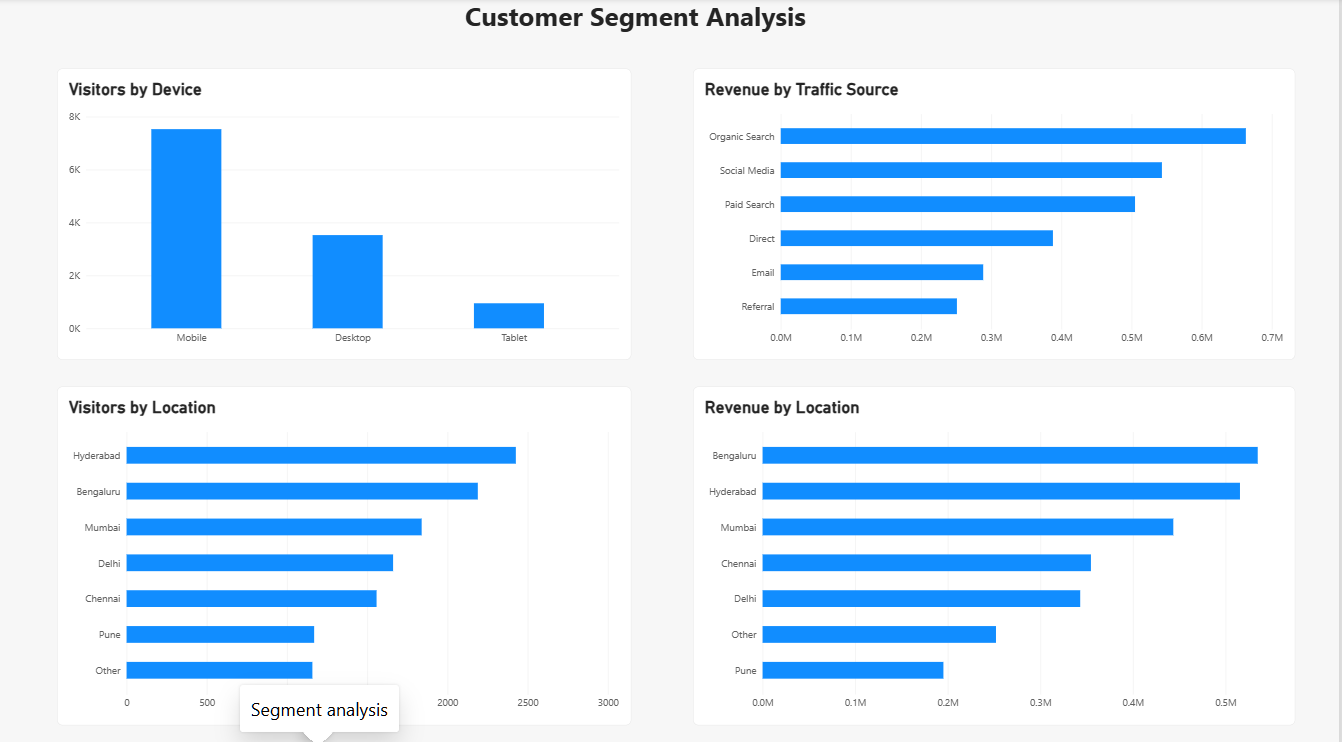

The page's visual inventory and layout, read from the dashboard file:
{"tool":"powerbi","page":{"name":"Segment analysis","canvas":[1920,1080],"ordinal":1},"visuals":[{"type":"textbox","box":[665.7,0,651.4,100.2],"z":0},{"type":"clusteredColumnChart","title":"Visitors by Device","fields":{"Category":["user_funnel_raw_data.device"],"Y":["Sum(user_funnel_raw_data.visited)"]},"box":[82.5,100,822.5,417.5],"z":1000},{"type":"clusteredBarChart","title":"Revenue by Traffic Source ","fields":{"Category":["user_funnel_raw_data.traffic_source"],"Y":["Sum(user_funnel_raw_data.order_value)"]},"box":[992.5,100,862.5,417.5],"z":2000},{"type":"clusteredBarChart","title":"Visitors by Location","fields":{"Category":["user_funnel_raw_data.location"],"Y":["Sum(user_funnel_raw_data.visited)"]},"box":[82.5,557.5,822.5,485],"z":3000},{"type":"clusteredBarChart","title":"Revenue by Location","fields":{"Category":["user_funnel_raw_data.location"],"Y":["Sum(user_funnel_raw_data.order_value)"]},"box":[992.5,557.5,862.5,485],"z":4000}]}

Visuals, with their boxes in screenshot pixels (x1, y1, x2, y2), scaled from the page's 1920x1080 canvas onto the 1342x742 screenshot:
textbox: Rect(465, 0, 921, 69)
"Visitors by Device" clusteredColumnChart: Rect(58, 69, 633, 356)
"Revenue by Traffic Source " clusteredBarChart: Rect(694, 69, 1297, 356)
"Visitors by Location" clusteredBarChart: Rect(58, 383, 633, 716)
"Revenue by Location" clusteredBarChart: Rect(694, 383, 1297, 716)
